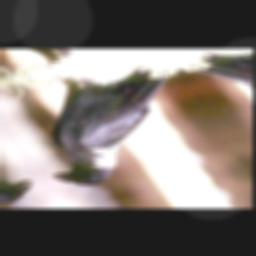Crow: (0, 54, 237, 195)
